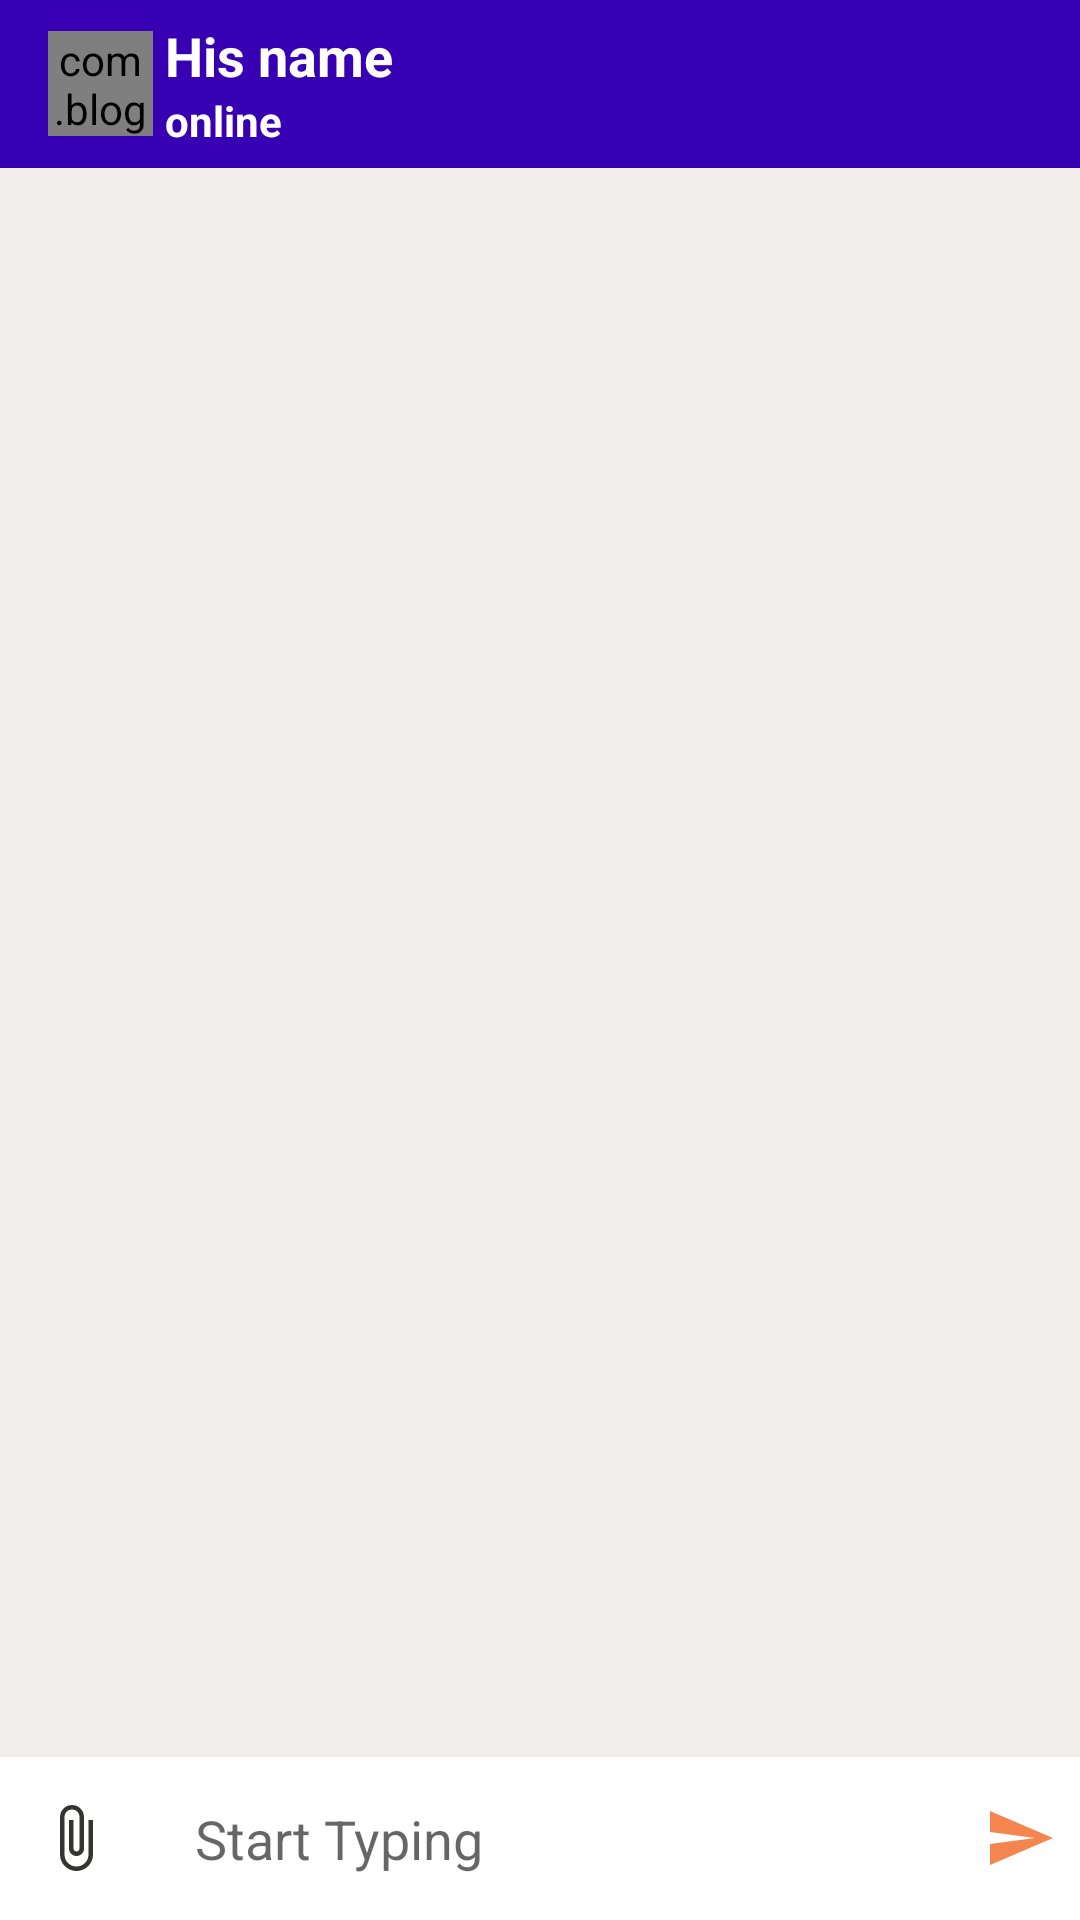

Named icons in this screenshot (1080 × 1920) and their centers, (x,y):
attach: (76,1838)
send: (1021,1838)
